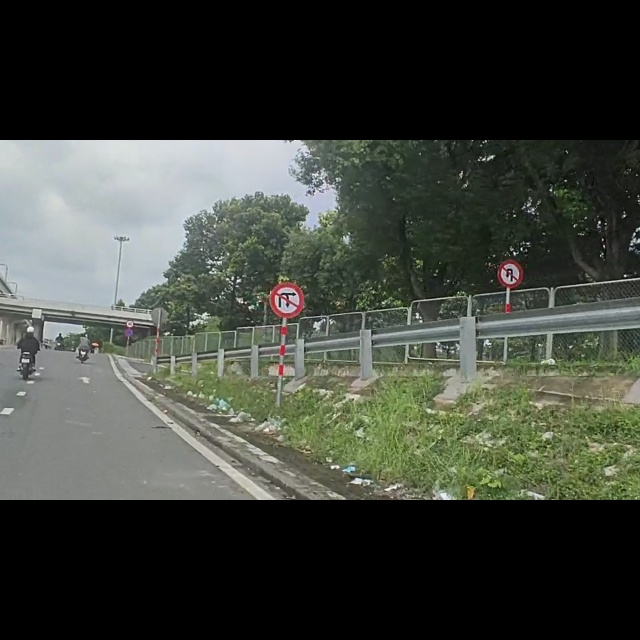bien_cam: (269, 252, 305, 316), (496, 212, 523, 262), (124, 333, 133, 348), (126, 318, 134, 333)
